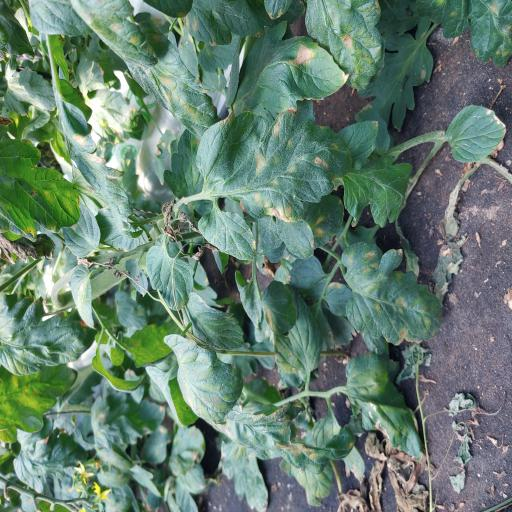Leaf Mold: (197, 104, 353, 224), (126, 22, 218, 139), (341, 242, 442, 346), (237, 20, 349, 111), (0, 138, 83, 234), (164, 334, 244, 424), (197, 209, 258, 262), (263, 280, 297, 336)
